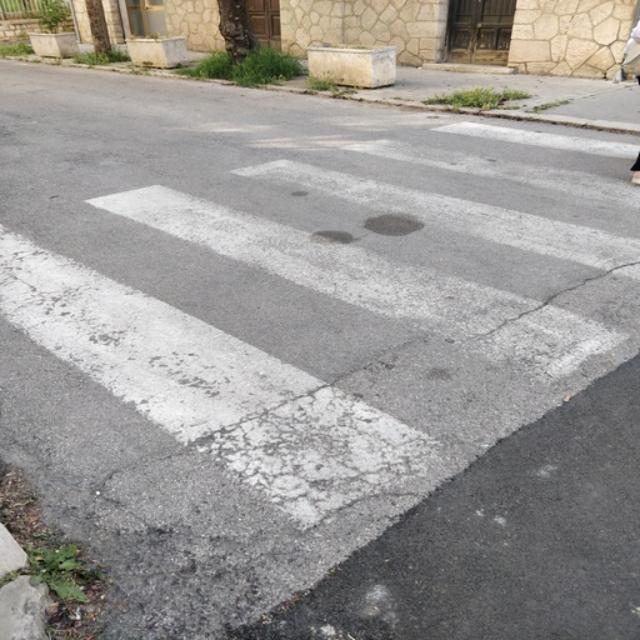sidewalk: (0, 113, 640, 640)
